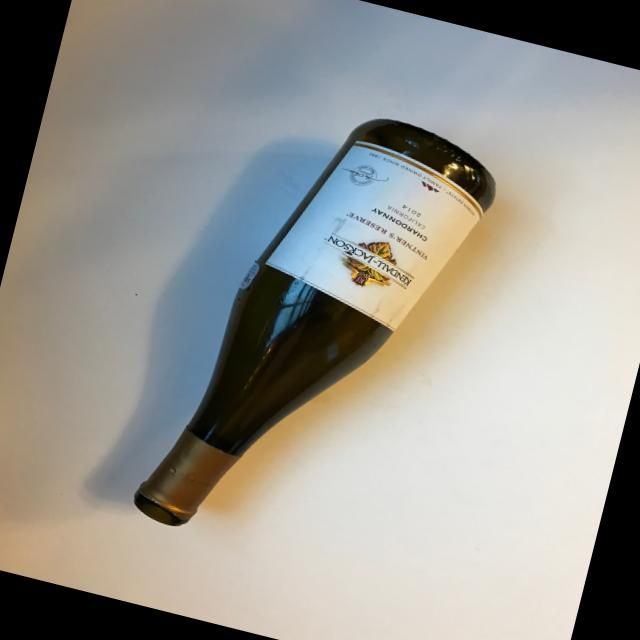Glass: (101, 68, 518, 589)
